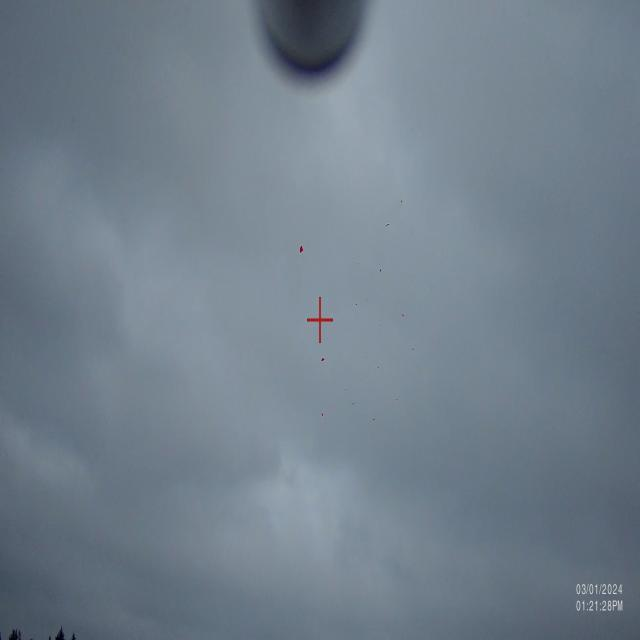broken: (283, 233, 428, 434)
